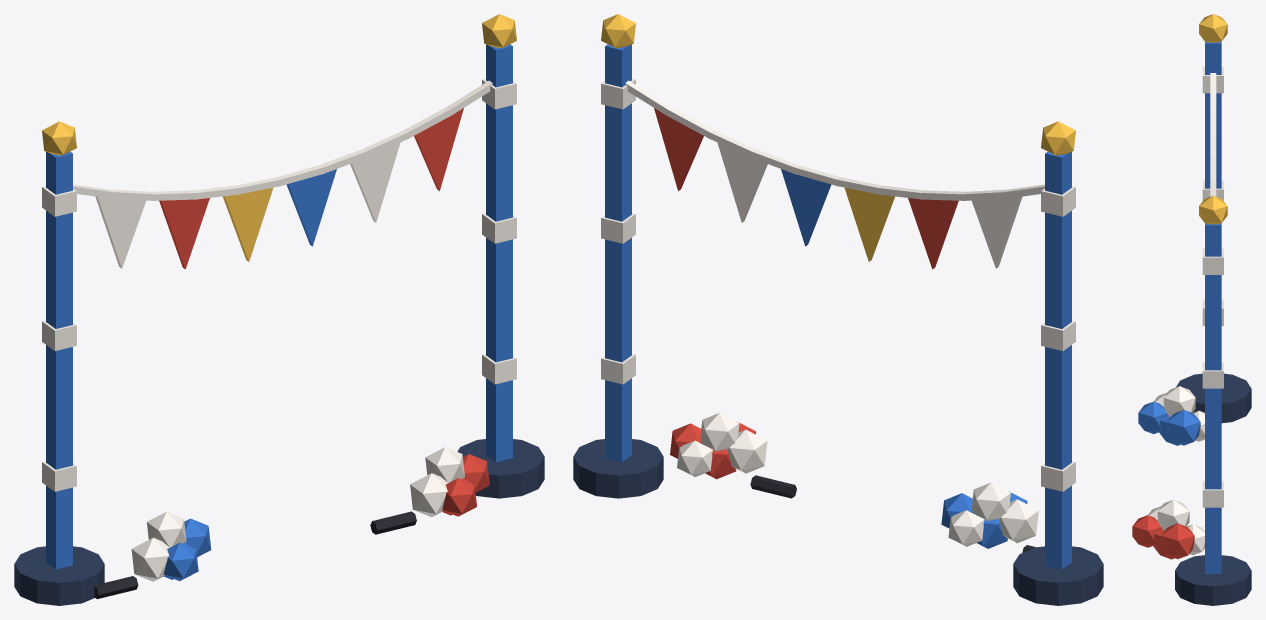
Rendered from CatCafe_Decor_CheerBunting.glb.
3 views of the same model, side by side, from view 1: azimuth 30°, elevation 25°; view 2: azimuth 150°, elevation 25°; view 3: azimuth 270°, elevation 25° (orthographic). The views are drawn at different scales.
Visible parts, largest first — view 1: CatCafe_Decor_CheerBunting, CatCafe_Decor_CheerBunting_Flag06_Pennant, CatCafe_Decor_CheerBunting_Flag05_Pennant, CatCafe_Decor_CheerBunting_Flag04_Pennant, CatCafe_Decor_CheerBunting_Flag03_Pennant, CatCafe_Decor_CheerBunting_Flag02_Pennant, CatCafe_Decor_CheerBunting_Flag01_Pennant; view 2: CatCafe_Decor_CheerBunting, CatCafe_Decor_CheerBunting_Flag06_Pennant, CatCafe_Decor_CheerBunting_Flag05_Pennant, CatCafe_Decor_CheerBunting_Flag04_Pennant, CatCafe_Decor_CheerBunting_Flag03_Pennant, CatCafe_Decor_CheerBunting_Flag02_Pennant, CatCafe_Decor_CheerBunting_Flag01_Pennant; view 3: CatCafe_Decor_CheerBunting.
Boxes of the visible parts, left/top/right/bottom form: CatCafe_Decor_CheerBunting: left=14, top=14, right=544, bottom=605; CatCafe_Decor_CheerBunting_Flag06_Pennant: left=95, top=196, right=145, bottom=268; CatCafe_Decor_CheerBunting_Flag05_Pennant: left=159, top=198, right=209, bottom=269; CatCafe_Decor_CheerBunting_Flag04_Pennant: left=223, top=187, right=273, bottom=261; CatCafe_Decor_CheerBunting_Flag03_Pennant: left=286, top=169, right=336, bottom=246; CatCafe_Decor_CheerBunting_Flag02_Pennant: left=350, top=142, right=400, bottom=222; CatCafe_Decor_CheerBunting_Flag01_Pennant: left=414, top=108, right=463, bottom=191; CatCafe_Decor_CheerBunting: left=573, top=14, right=1103, bottom=605; CatCafe_Decor_CheerBunting_Flag06_Pennant: left=972, top=196, right=1022, bottom=268; CatCafe_Decor_CheerBunting_Flag05_Pennant: left=908, top=198, right=958, bottom=269; CatCafe_Decor_CheerBunting_Flag04_Pennant: left=844, top=187, right=894, bottom=261; CatCafe_Decor_CheerBunting_Flag03_Pennant: left=781, top=169, right=831, bottom=246; CatCafe_Decor_CheerBunting_Flag02_Pennant: left=717, top=142, right=767, bottom=222; CatCafe_Decor_CheerBunting_Flag01_Pennant: left=654, top=108, right=703, bottom=191; CatCafe_Decor_CheerBunting: left=1132, top=14, right=1251, bottom=605.
Size of the model in its own units: 4.24 by 3.64 by 0.9966.
1 material, 1 textured.
